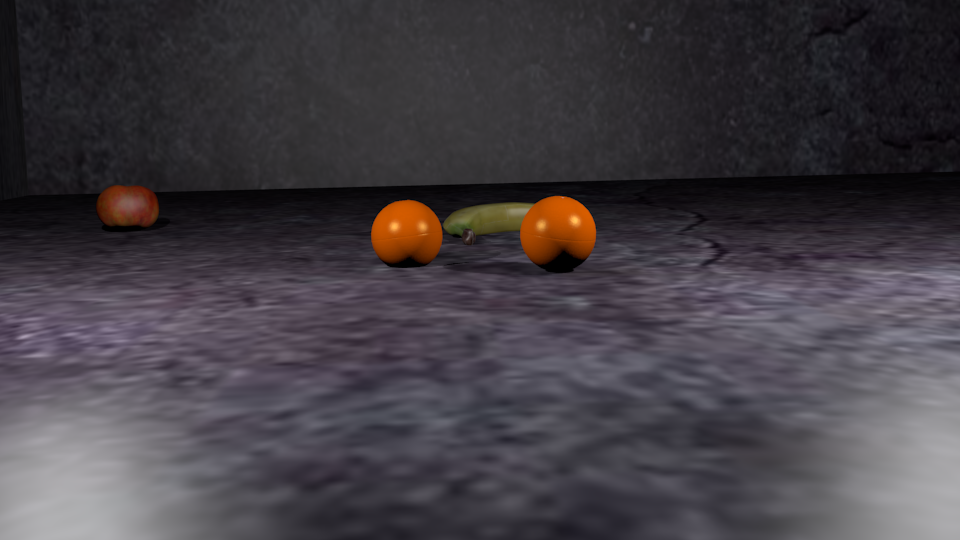apple: (99, 186, 159, 225)
banana: (444, 204, 584, 246)
orange: (521, 197, 597, 262), (372, 200, 443, 260)
